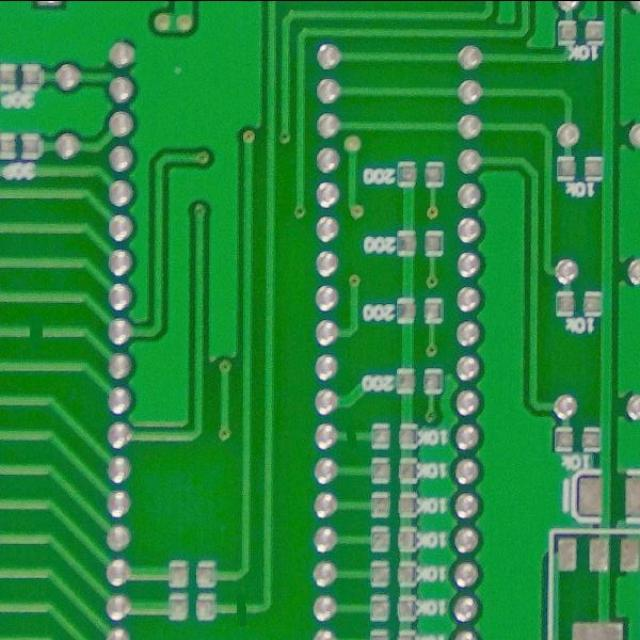Open_Circuit: (15, 314, 59, 346), (225, 591, 259, 621), (336, 421, 367, 448)
